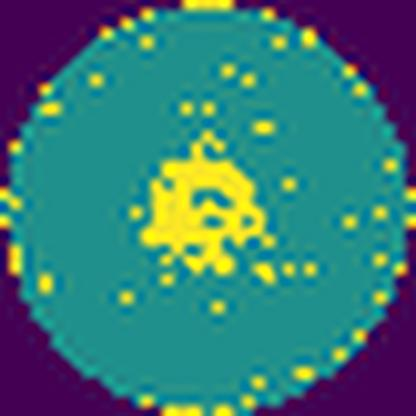Center: (145, 131, 270, 283)
